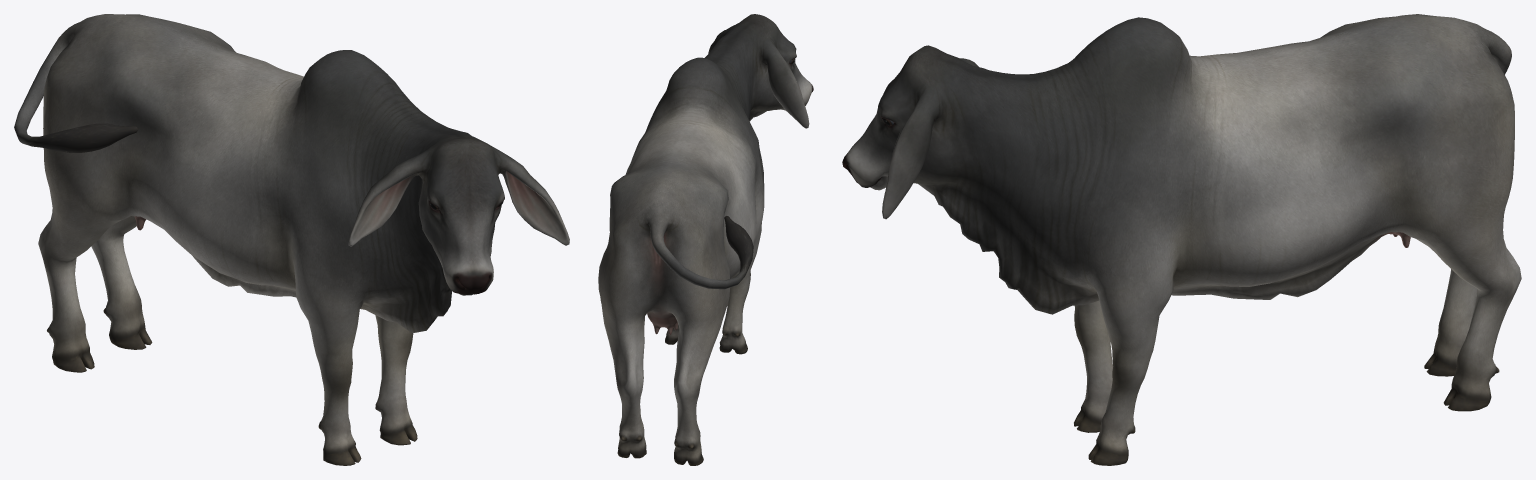
File: cow2.glb
3 renders of one model, left to right at view 1: azimuth 30°, elevation 25°; view 2: azimuth 150°, elevation 25°; view 3: azimuth 270°, elevation 25°, orthographic. The views are drawn at different scales.
Visible parts, largest first — view 1: Brahman_cow_3; view 2: Brahman_cow_3; view 3: Brahman_cow_3.
Part boxes in pixels (x1=…): Brahman_cow_3: x1=14, y1=14, x2=569, y2=465; Brahman_cow_3: x1=598, y1=14, x2=813, y2=465; Brahman_cow_3: x1=842, y1=14, x2=1521, y2=465.
Size of the model in its own units: 132 by 164 by 242.
1 material, 1 textured.
